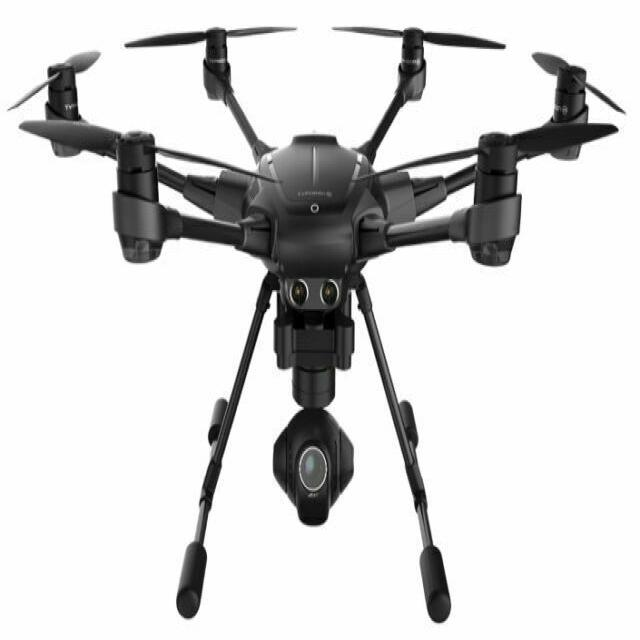drone: (3, 10, 640, 461)
